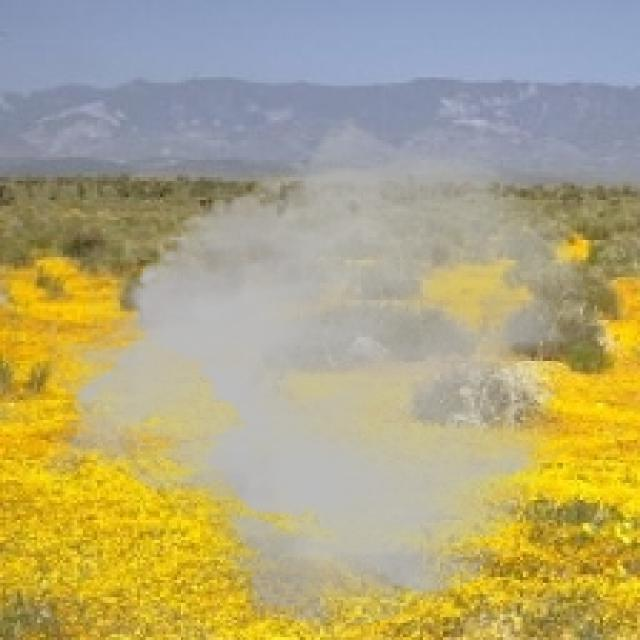smoke: (34, 114, 592, 632)
